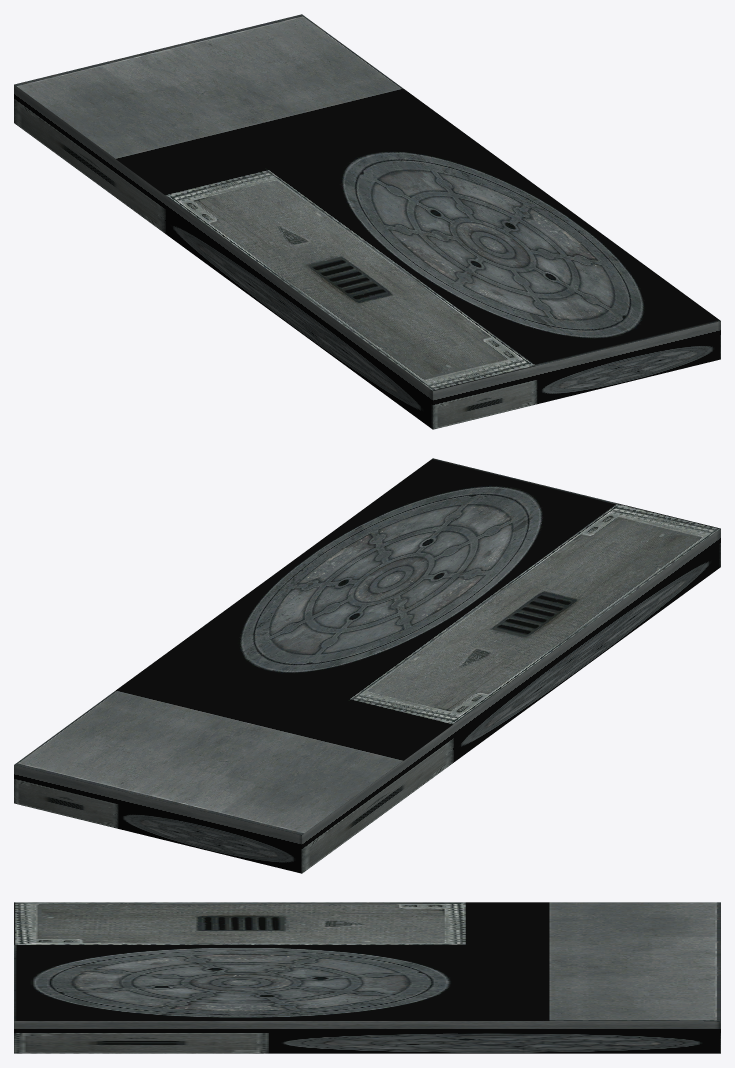
Rendered from Sidewalk_5meters.DAE.
The picture shows the model from 3 angles, top to bottom: view 1: azimuth 30°, elevation 25°; view 2: azimuth 150°, elevation 25°; view 3: azimuth 270°, elevation 25°; orthographic projection. The views are drawn at different scales.
Parts seen in each view (by area): view 1: bounds; view 2: bounds; view 3: bounds.
Boxes of the visible parts, box(x1,y1,x2,y2) form: bounds: box(14, 14, 720, 429); bounds: box(14, 458, 720, 873); bounds: box(14, 902, 720, 1053).
Size of the model in its own units: 203 by 512 by 25.97.
